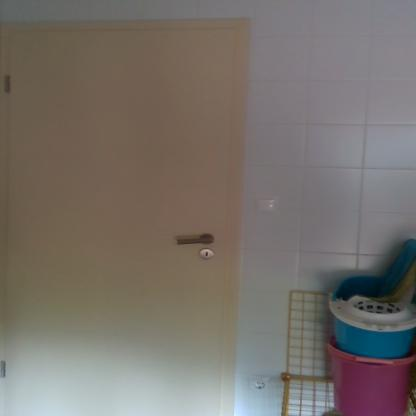door: (8, 33, 226, 415)
hinged: (0, 358, 12, 381), (2, 74, 10, 93)
lever: (174, 237, 216, 246)
